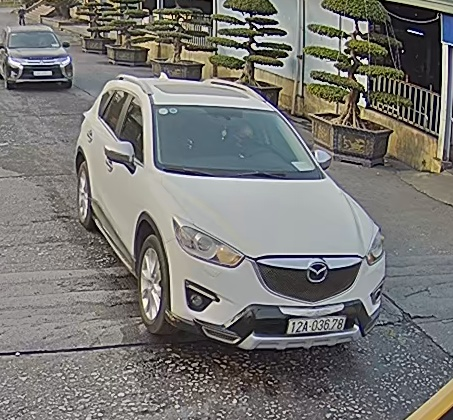vehicle plate: (286, 313, 351, 337)
